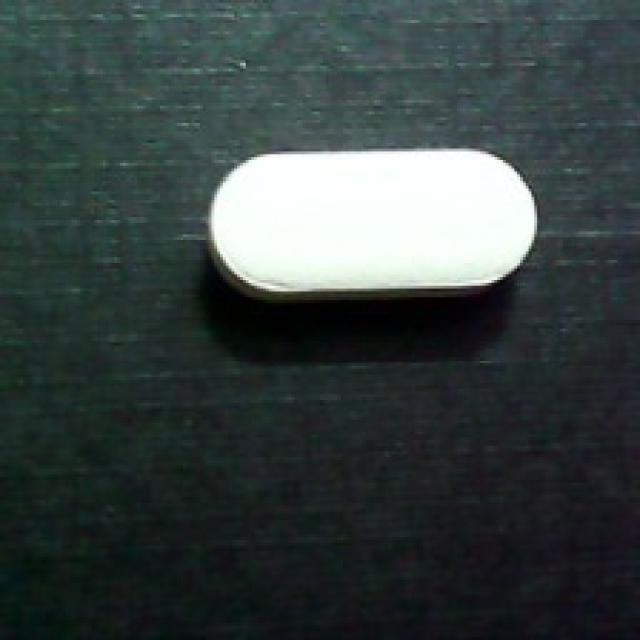no-defect: (206, 143, 543, 309)
